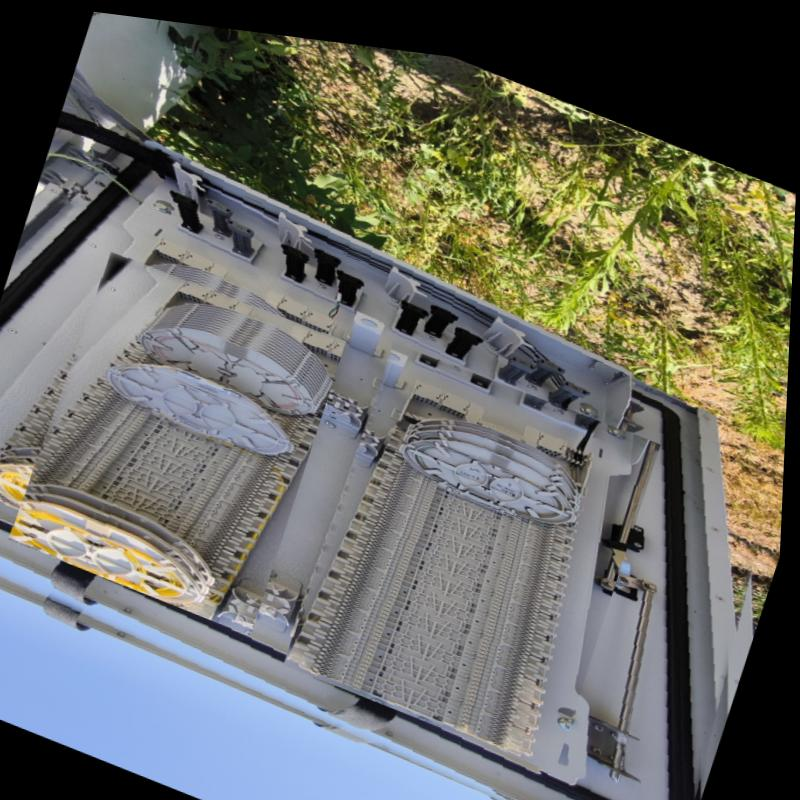NT-Gehause: (0, 9, 741, 800)
Spleiskassetten: (286, 316, 667, 766), (11, 233, 350, 636)
